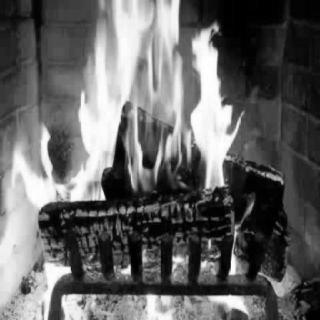Fire: (4, 2, 284, 306)
